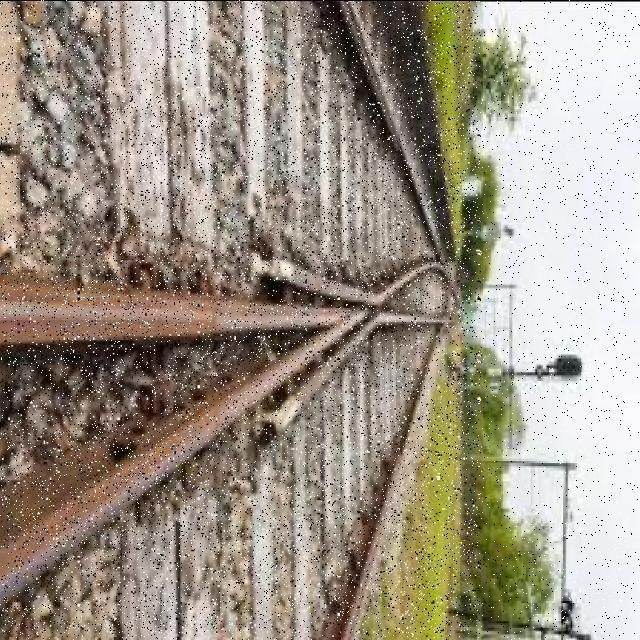rail: (1, 2, 480, 634)
